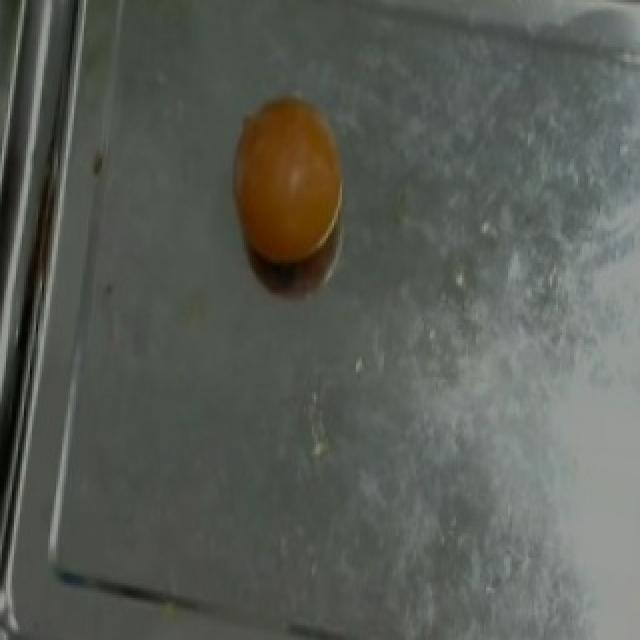Fruit: (224, 84, 358, 278)
